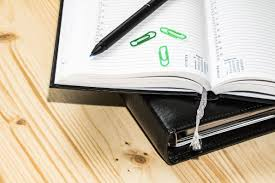Open Book: (49, 1, 275, 104)
